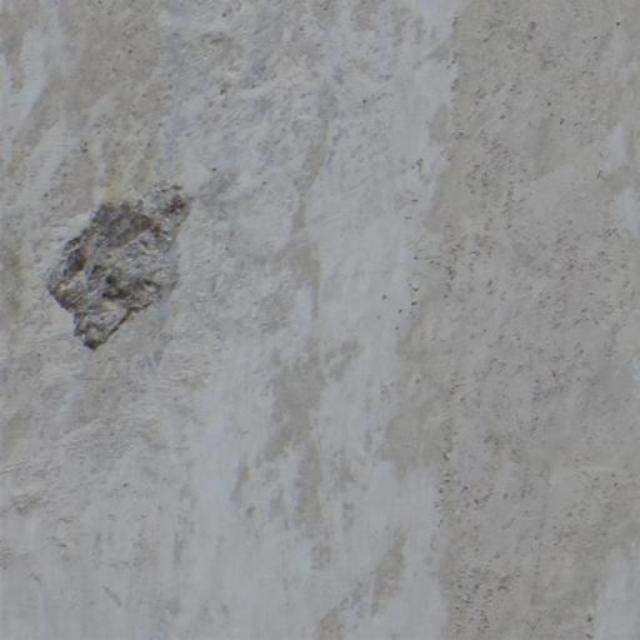D10: (50, 182, 193, 353)
